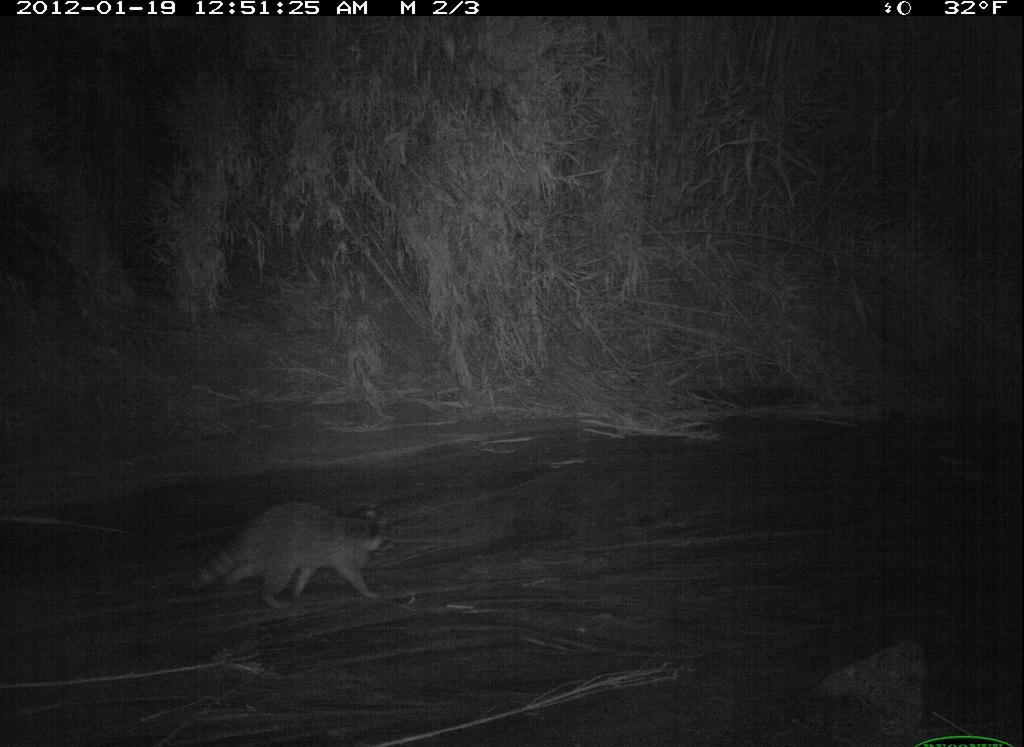raccoon: (190, 495, 381, 610)
